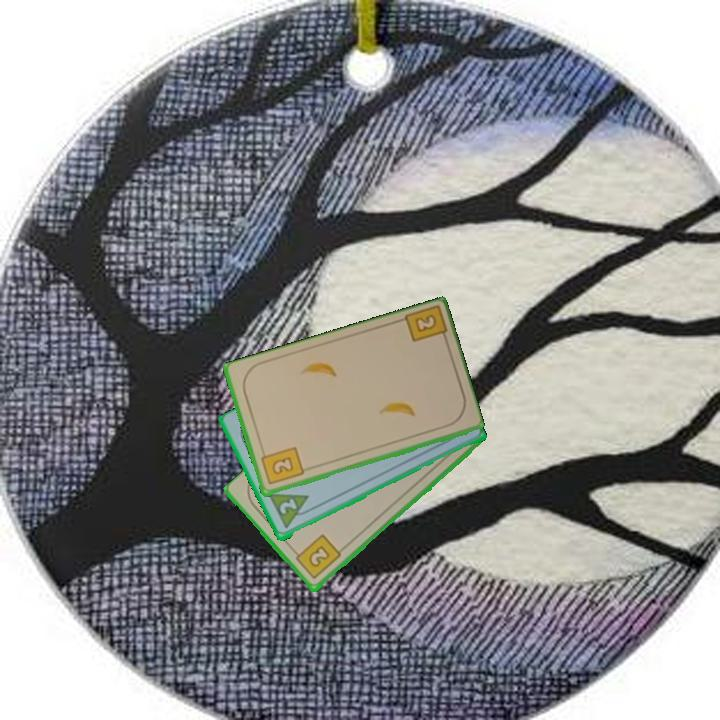2b: (289, 531, 344, 582), (400, 304, 451, 347), (257, 444, 306, 488)
2p: (265, 490, 317, 532)
